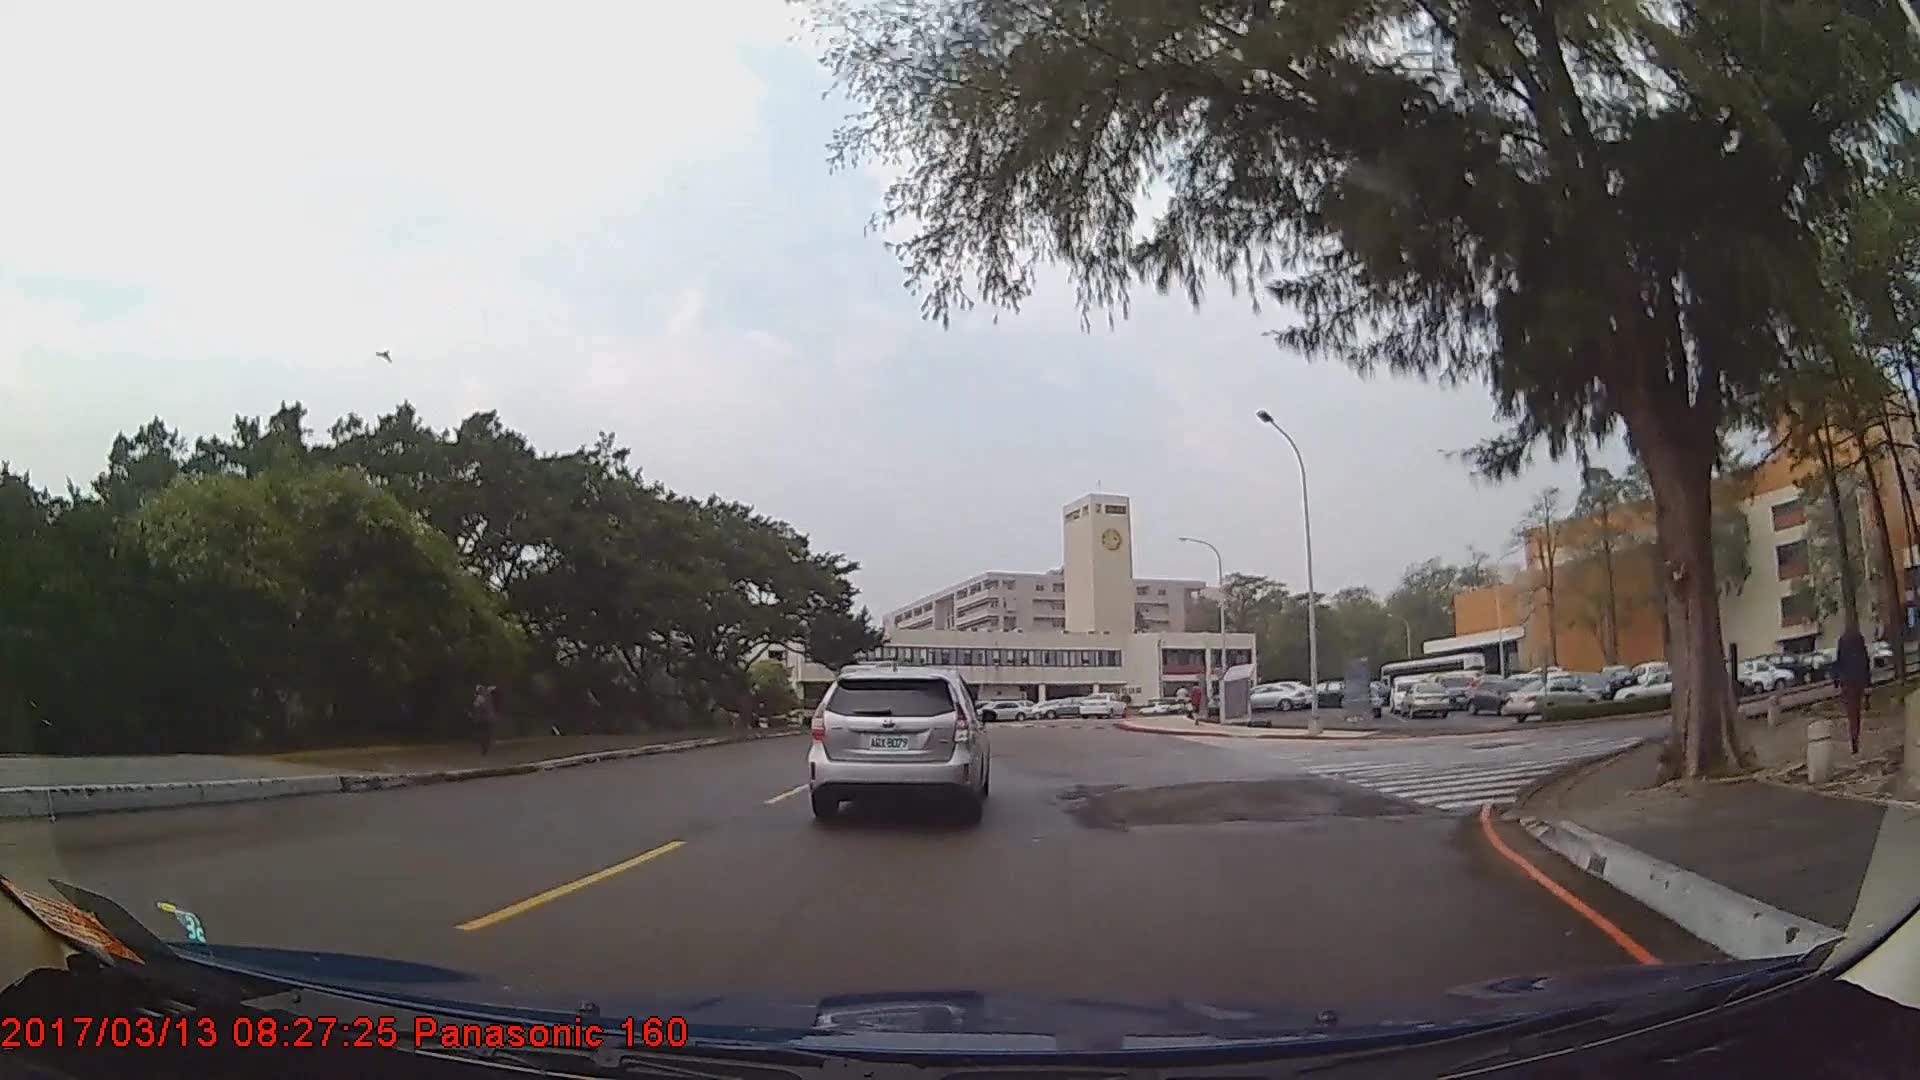pedestrian: (1828, 622, 1873, 754), (466, 669, 508, 756)
vehicle: (808, 664, 989, 821), (1502, 675, 1598, 723), (1615, 668, 1709, 716), (1464, 675, 1540, 716), (1400, 680, 1449, 720), (1236, 684, 1305, 711), (1436, 673, 1477, 713), (1077, 690, 1128, 719), (1034, 693, 1092, 718), (974, 699, 1031, 721)
